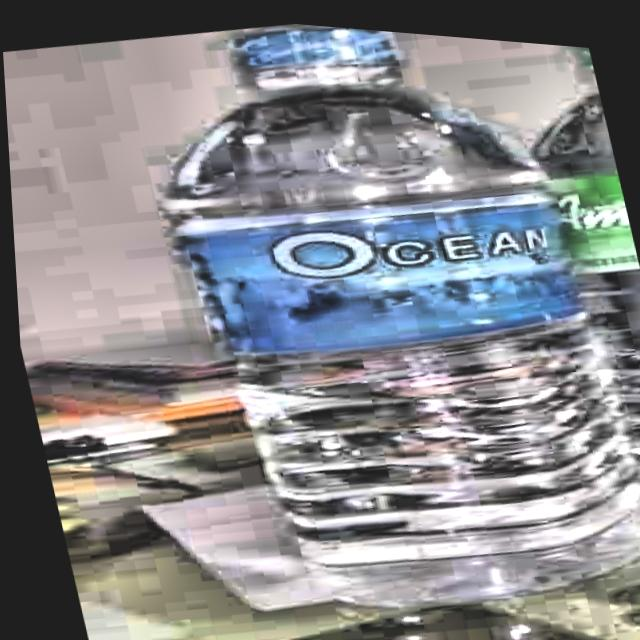Bottles: (97, 6, 640, 640)
